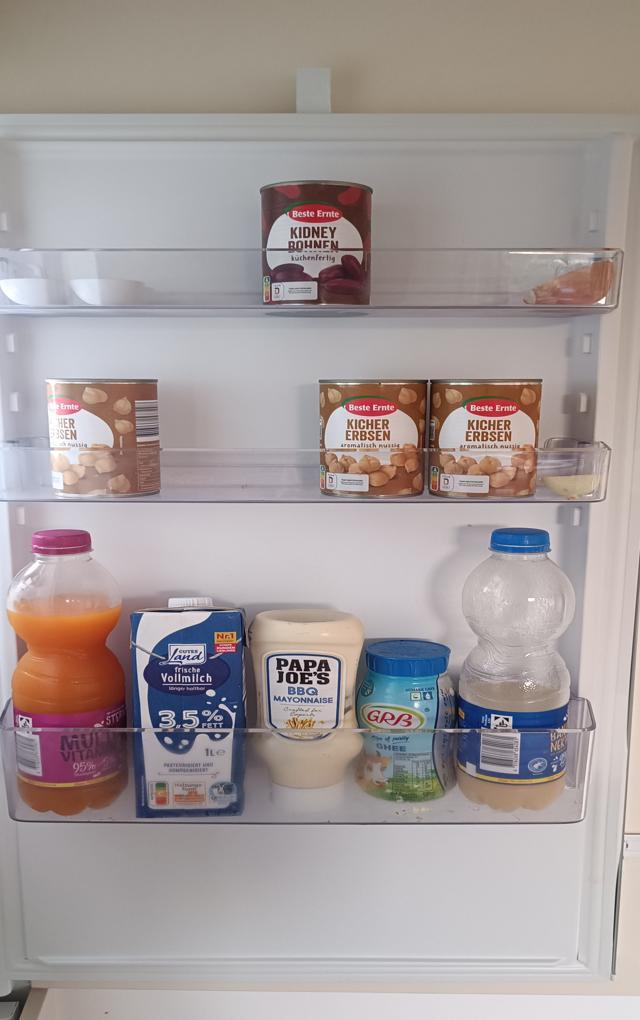bananajuice: (453, 524, 580, 812)
chickpeas: (44, 380, 165, 500), (429, 379, 542, 501), (319, 375, 427, 496)
ghee: (357, 639, 461, 806)
kidneybeans: (259, 181, 373, 310)
mayoniasie: (251, 606, 367, 812)
milk: (129, 591, 249, 815)
orangejuice: (9, 526, 130, 818)
